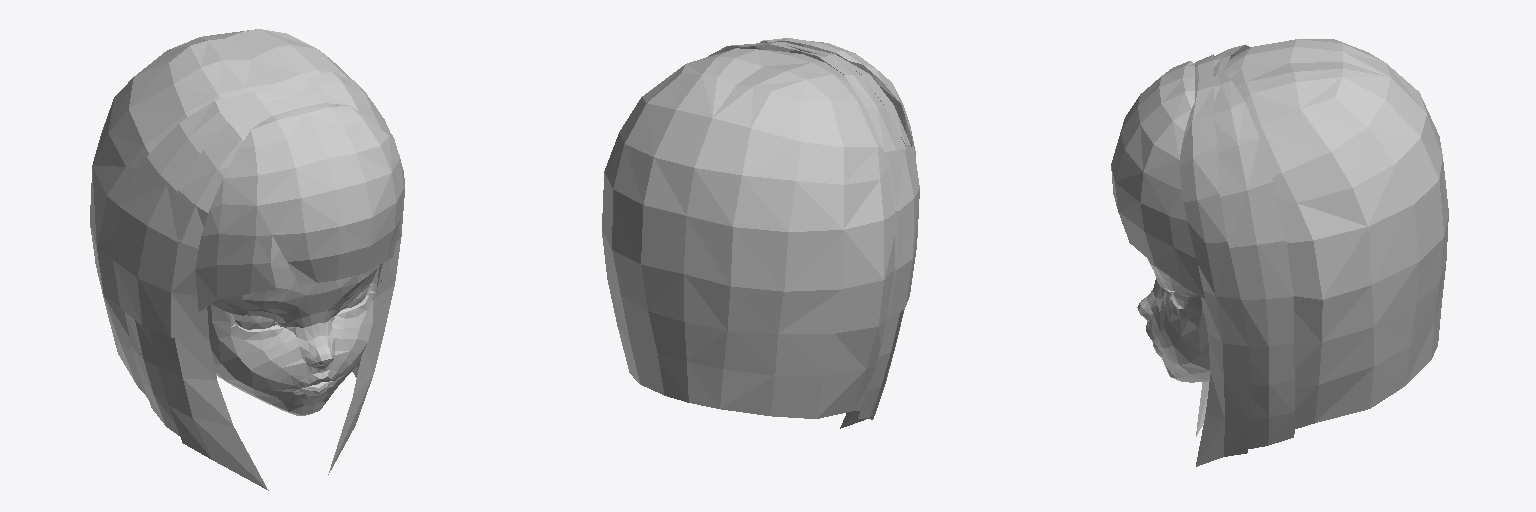
File: heAD.obj
3 views of the same model, side by side, from view 1: azimuth 30°, elevation 25°; view 2: azimuth 150°, elevation 25°; view 3: azimuth 270°, elevation 25° (orthographic).
Visible parts, largest first — view 1: SE_Lingerie00_Hair, SE_Lingerie00_Head, SE_Lingerie00_Eyes; view 2: SE_Lingerie00_Hair; view 3: SE_Lingerie00_Hair, SE_Lingerie00_Head.
Boxes of the visible parts, x1,y1,x2,y2 form: SE_Lingerie00_Hair: [90, 29, 404, 490]; SE_Lingerie00_Head: [207, 236, 381, 415]; SE_Lingerie00_Eyes: [232, 286, 369, 329]; SE_Lingerie00_Hair: [602, 38, 919, 428]; SE_Lingerie00_Hair: [1111, 39, 1448, 466]; SE_Lingerie00_Head: [1137, 258, 1210, 382].
Bounding box in the file's own units: 1.87 × 2.55 × 1.99.